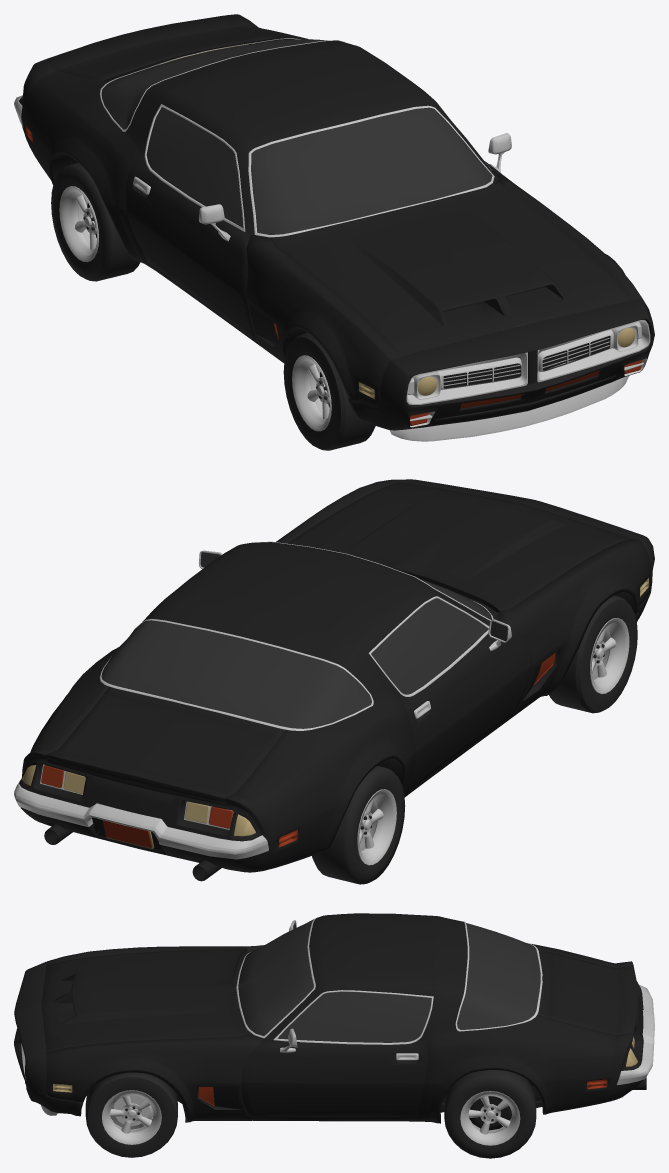
Rendered from MustangCar.fbx.
3 views of the same model, one above another, from view 1: azimuth 30°, elevation 25°; view 2: azimuth 150°, elevation 25°; view 3: azimuth 270°, elevation 25° (orthographic). The views are drawn at different scales.
Visible parts, largest first — view 1: Mustang, WheelFR, WheelBR; view 2: Mustang, WheelBR, WheelFR; view 3: Mustang, WheelBL, WheelFL.
Boxes of the visible parts, <box> form: Mustang: <box>14,14,654,441</box>; WheelFR: <box>283,333,375,450</box>; WheelBR: <box>51,162,140,281</box>; Mustang: <box>14,479,654,881</box>; WheelBR: <box>312,765,405,884</box>; WheelFR: <box>549,595,637,713</box>; Mustang: <box>14,913,654,1130</box>; WheelBL: <box>444,1070,536,1158</box>; WheelFL: <box>85,1072,177,1157</box>.
Size of the model in its own units: 112 by 72.53 by 259.
